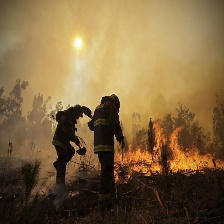fire: (115, 130, 224, 187)
smoke: (1, 1, 224, 145)
